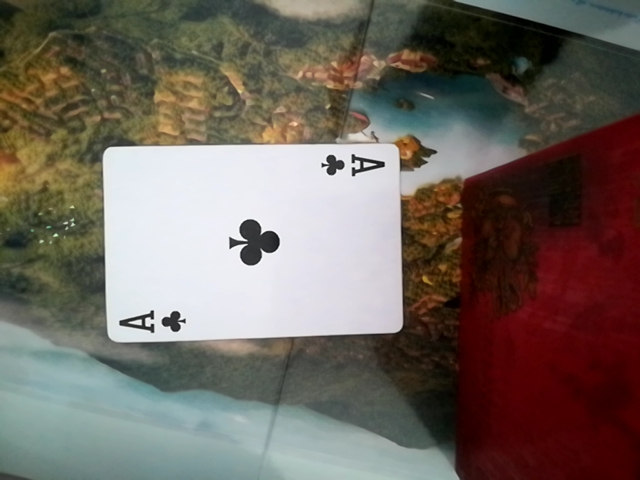mh a: (90, 144, 415, 345)
